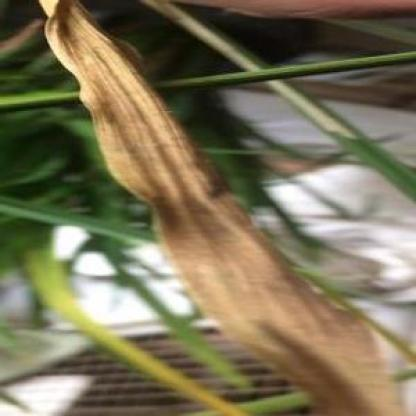Blight: (38, 1, 407, 416)
